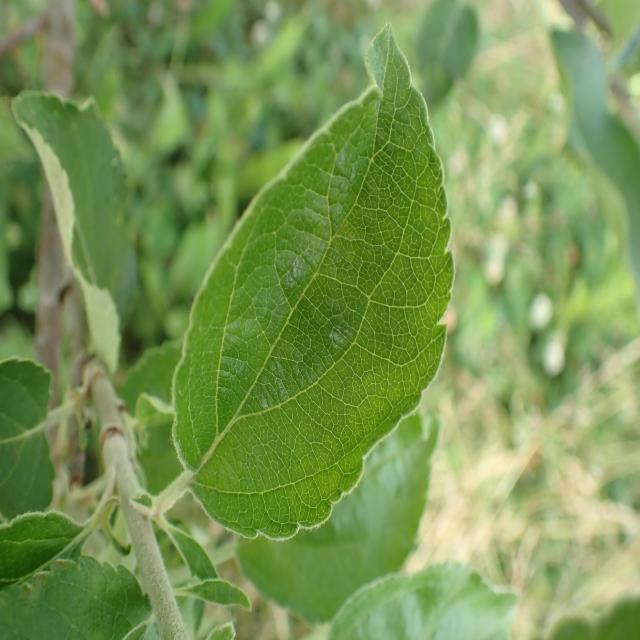healthy: (171, 19, 455, 544), (236, 410, 441, 628), (10, 89, 134, 376), (328, 561, 520, 640), (0, 555, 150, 640), (0, 357, 55, 521)
